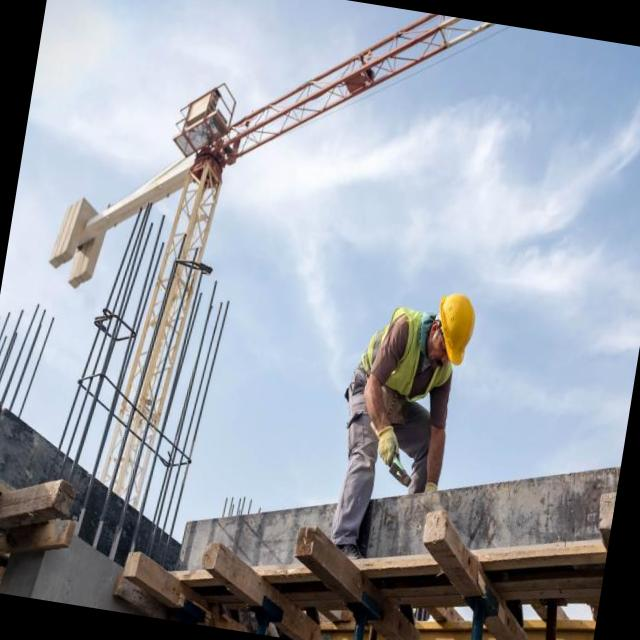Gloves: (362, 422, 411, 473)
Helmet: (433, 294, 487, 368)
Vest: (346, 310, 464, 418)
